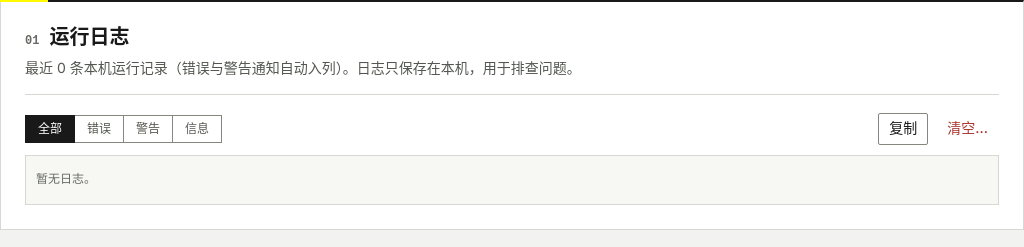
Test case: 既有行为回归基线 › LogPanel 的「复制」提示也走通知链：留 ok 日志且面板无需重挂载即可见
Click the button "复制" at (903, 129), box [878, 113, 928, 145]
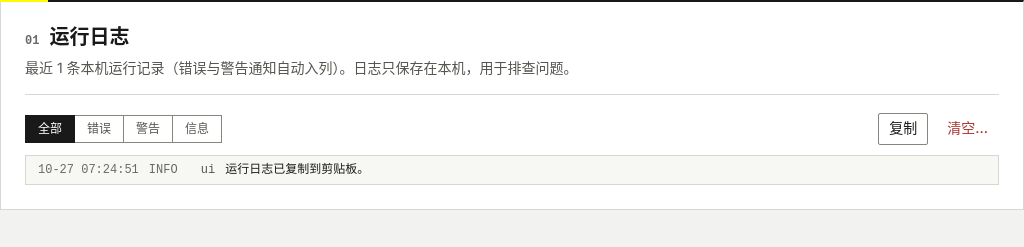
Check: the text "运行日志已复制到剪贴板。" is shown, box [225, 160, 369, 180]
